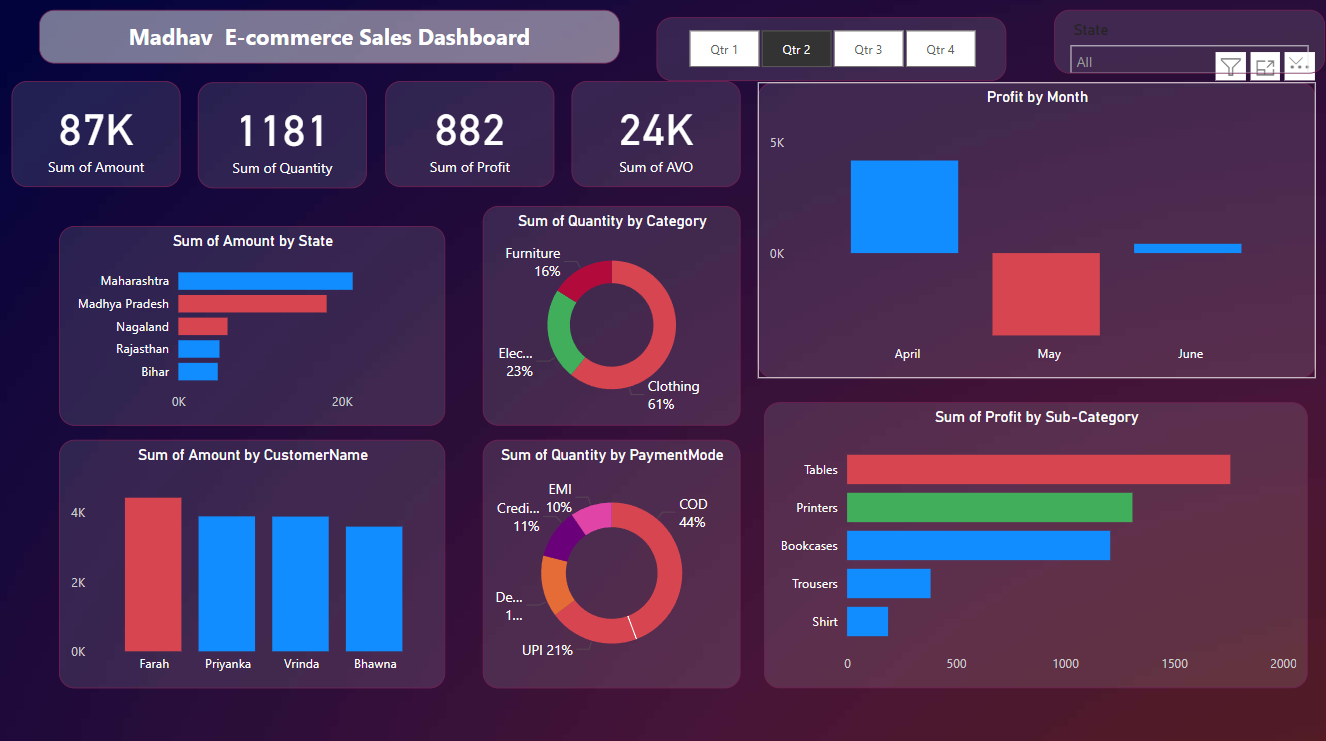

What the dashboard file says about the page in this screenshot:
{"tool":"powerbi","page":{"name":"Page 1","canvas":[1280,720],"ordinal":0},"visuals":[{"type":"textbox","box":[38.6,13.3,561,51.9],"z":0},{"type":"columnChart","title":"Profit by Month","fields":{"Y":["Sum(Details.Profit)"],"Category":["Orders.Order Date.Variation.Date Hierarchy.Month"]},"box":[732.3,83.2,538.1,285.9],"z":1000},{"type":"barChart","fields":{"Category":["Details.Sub-Category"],"Y":["Sum(Details.Profit)"]},"box":[738.3,392.1,524.8,276.3],"z":2000},{"type":"donutChart","fields":{"Category":["Details.Category"],"Y":["Sum(Details.Quantity)"]},"box":[466.9,202.7,248.5,212.3],"z":3000},{"type":"donutChart","fields":{"Y":["Sum(Details.Quantity)"],"Category":["Details.PaymentMode"]},"box":[466.9,428.3,248.5,240.1],"z":4000},{"type":"card","fields":{"Values":["Sum(Details.Amount)"]},"box":[12.1,82,162.9,102.5],"z":5000},{"type":"card","fields":{"Values":["Sum(Details.Quantity)"]},"box":[191.8,83.2,162.9,102.5],"z":6000},{"type":"card","fields":{"Values":["Sum(Details.Profit)"]},"box":[372.8,82,162.9,102.5],"z":7000},{"type":"card","fields":{"Values":["Sum(Details.AVO)"]},"box":[552.5,82,162.9,102.5],"z":8000},{"type":"barChart","fields":{"Category":["Orders.State"],"Y":["Sum(Details.Amount)"]},"box":[58.1,221.5,372.7,193.1],"z":9000},{"type":"columnChart","fields":{"Category":["Orders.CustomerName"],"Y":["Sum(Details.Amount)"]},"box":[58,428,373,240],"z":10000},{"type":"slicer","fields":{"Values":["Orders.Order Date.Variation.Date Hierarchy.Quarter"]},"box":[663.5,13.3,337.8,61.5],"z":11000},{"type":"slicer","fields":{"Values":["Orders.State"]},"box":[1018.2,13.3,261.8,61.5],"z":12000}]}

Visuals, with their boxes in screenshot pixels (x1, y1, x2, y2), scaled from the page's 1280x720 canvas onto the 1326x741 screenshot:
textbox: (left=40, top=14, right=621, bottom=67)
"Profit by Month" columnChart: (left=759, top=86, right=1316, bottom=380)
barChart - Details.Sub-Category x Sum(Details.Profit): (left=765, top=404, right=1308, bottom=688)
donutChart - Details.Category x Sum(Details.Quantity): (left=484, top=209, right=741, bottom=427)
donutChart - Sum(Details.Quantity) x Details.PaymentMode: (left=484, top=441, right=741, bottom=688)
card - Sum(Details.Amount): (left=13, top=84, right=181, bottom=190)
card - Sum(Details.Quantity): (left=199, top=86, right=367, bottom=191)
card - Sum(Details.Profit): (left=386, top=84, right=555, bottom=190)
card - Sum(Details.AVO): (left=572, top=84, right=741, bottom=190)
barChart - Orders.State x Sum(Details.Amount): (left=60, top=228, right=446, bottom=427)
columnChart - Orders.CustomerName x Sum(Details.Amount): (left=60, top=440, right=446, bottom=687)
slicer - Orders.Order Date.Variation.Date Hierarchy.Quarter: (left=687, top=14, right=1037, bottom=77)
slicer - Orders.State: (left=1055, top=14, right=1325, bottom=77)
